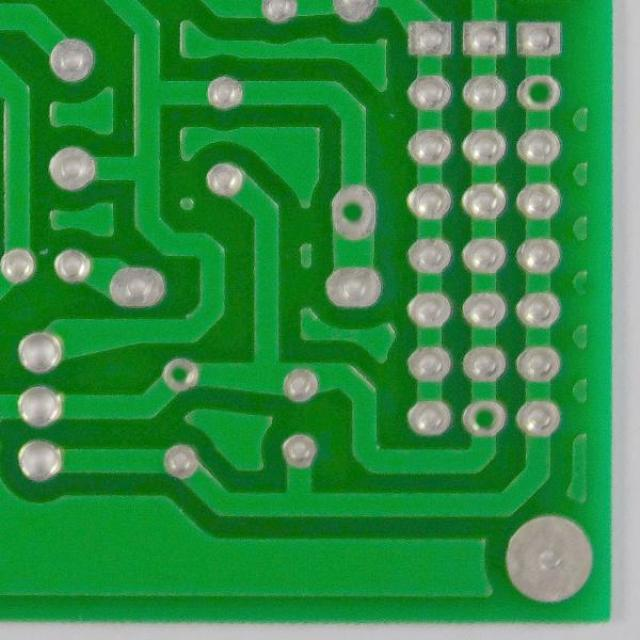Missing_Hole: (324, 182, 382, 244), (458, 394, 511, 440), (514, 72, 563, 113), (154, 355, 202, 396)
